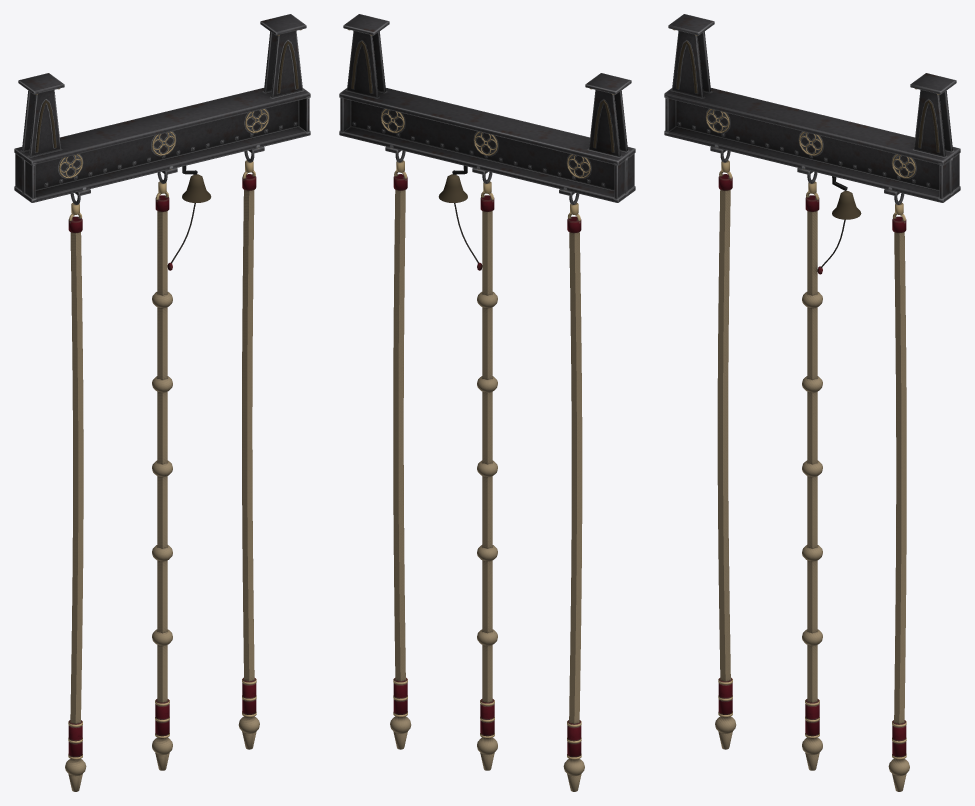
Rendered from ClimbingRopes.fbx.
The picture shows the model from 3 angles, left to right: view 1: azimuth 30°, elevation 25°; view 2: azimuth 150°, elevation 25°; view 3: azimuth 330°, elevation 25°; orthographic projection.
Visible parts, largest first — view 1: ClimbingRopes; view 2: ClimbingRopes; view 3: ClimbingRopes.
Part boxes in pixels (left/top/right/bottom): ClimbingRopes: left=14, top=14, right=310, bottom=791; ClimbingRopes: left=339, top=14, right=635, bottom=791; ClimbingRopes: left=664, top=14, right=960, bottom=791.
Bounding box in the file's own units: 900 × 2208 × 105.
